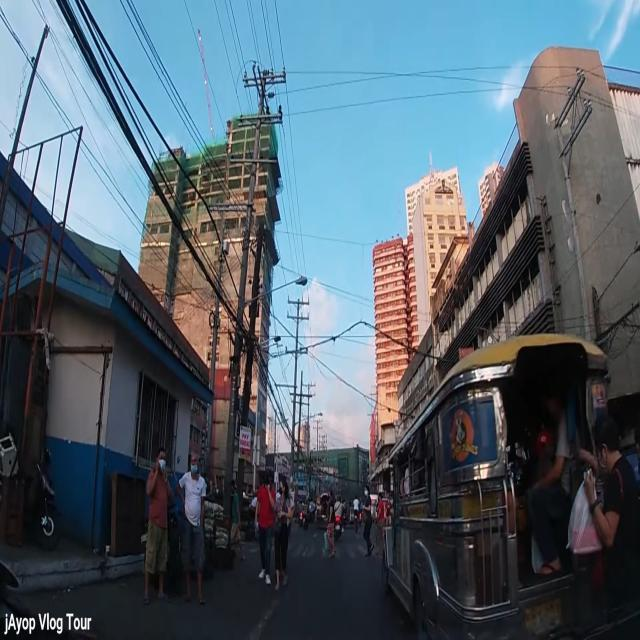bike: (353, 493, 359, 535)
jeepney: (381, 335, 611, 640), (316, 491, 334, 529)
motorcycle: (1, 432, 59, 548), (336, 494, 344, 540), (297, 498, 304, 527)
